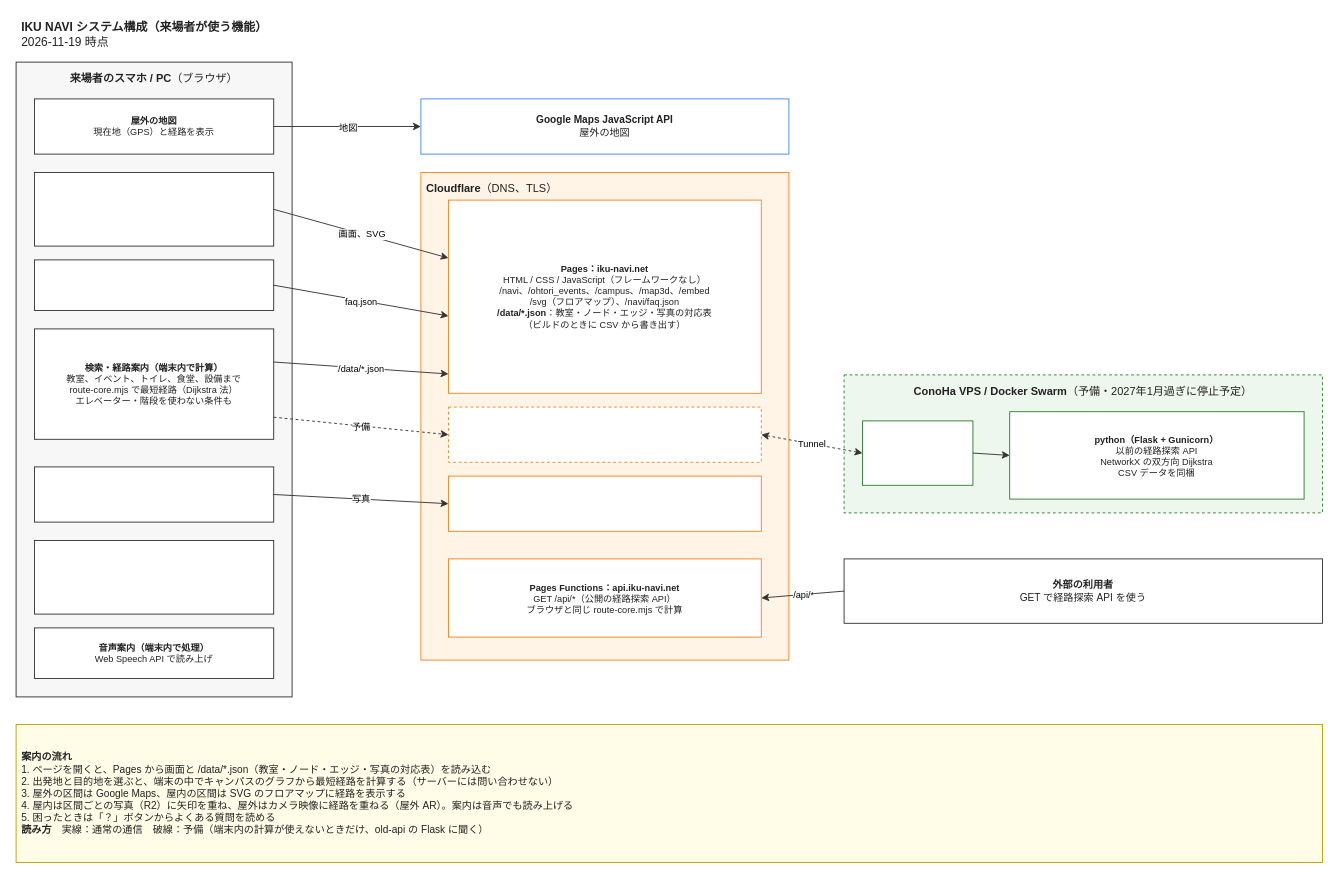
This 1339x879 diagram has some shape labels left out. Each missing label, with the centre of its shape:
"cloudflared" belongs at pixel 917 452.
"R2：cdn.iku-navi.net 経路写真の配信（約1,300枚）" belongs at pixel 604 503.
"Tunnel：old-api.iku-navi.net 端末内の計算が使えないときの予備" belongs at pixel 604 434.
"ページ表示 ナビ、鳳祭の企画一覧、キャンパス案内、 3Dマップ、埋め込みマップ 屋内は SVG のフロアマップ" belongs at pixel 154 209.
"使い方（「？」ボタン） よくある質問を読む" belongs at pixel 154 284.
"屋外 AR（端末内で処理） カメラ映像に Three.js で経路を描画 GPS とジャイロで向きを合わせる" belongs at pixel 154 577.
"経路写真 写真に進行方向の矢印を重ねる" belongs at pixel 154 494.
